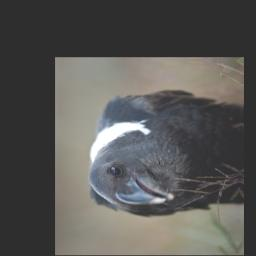Crow: (85, 89, 238, 219)
